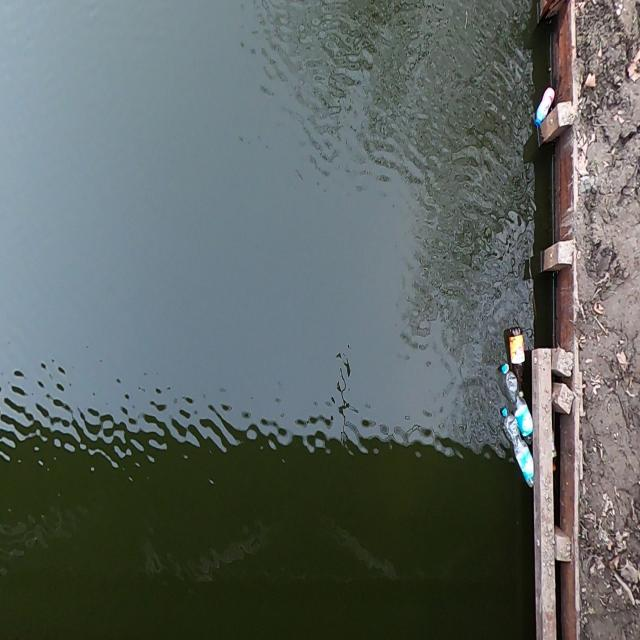Bouteille plastique: (494, 391, 534, 503), (493, 356, 534, 456), (499, 318, 530, 397), (530, 78, 555, 132)
